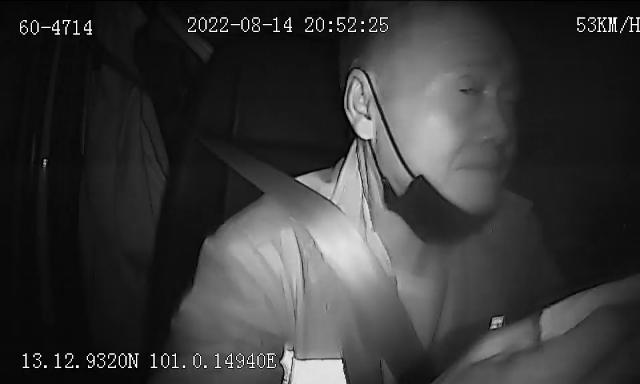Seatbelt: (224, 154, 426, 384)
